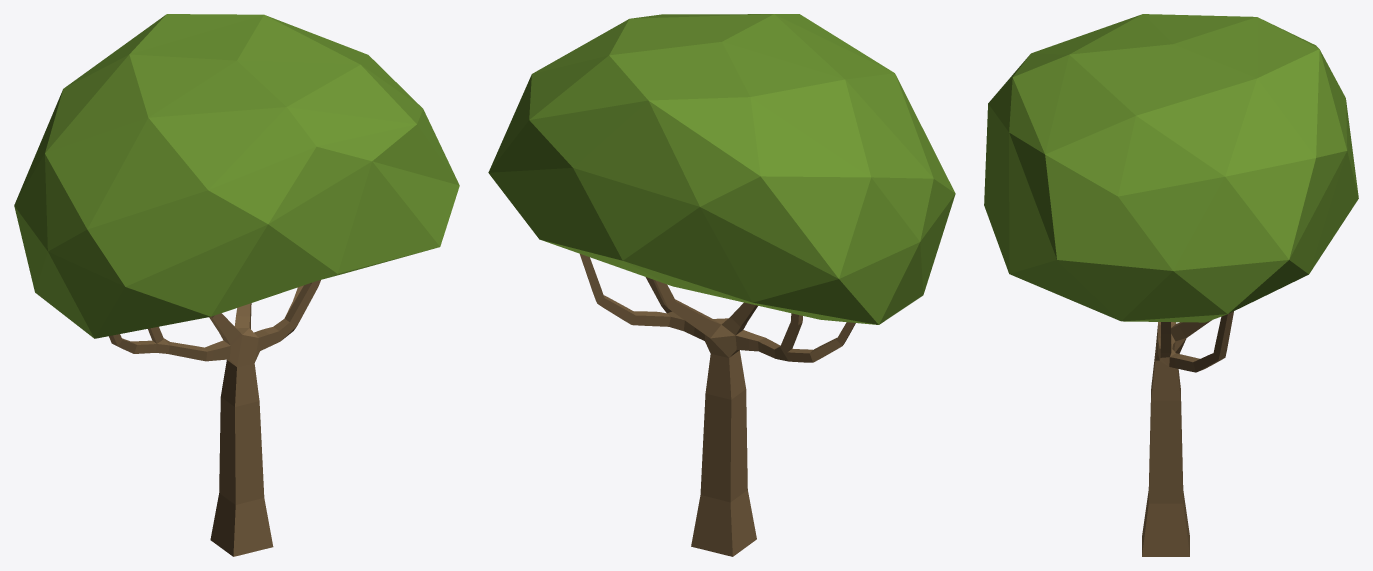
The model's file is AppleTree1.fbx.
The picture shows the model from 3 angles, left to right: view 1: azimuth 30°, elevation 25°; view 2: azimuth 150°, elevation 25°; view 3: azimuth 270°, elevation 25°; orthographic projection. The views are drawn at different scales.
Parts seen in each view (by area): view 1: AppleTree1Foliage, AppleTree1; view 2: AppleTree1Foliage, AppleTree1; view 3: AppleTree1Foliage, AppleTree1.
Boxes of the visible parts, left/top/right/bottom form: AppleTree1Foliage: left=14, top=14, right=459, bottom=338; AppleTree1: left=109, top=280, right=320, bottom=556; AppleTree1Foliage: left=488, top=14, right=955, bottom=324; AppleTree1: left=580, top=254, right=855, bottom=556; AppleTree1Foliage: left=984, top=14, right=1358, bottom=322; AppleTree1: left=1142, top=311, right=1233, bottom=556.
Size of the model in its own units: 5.07 by 6.17 by 4.17.
